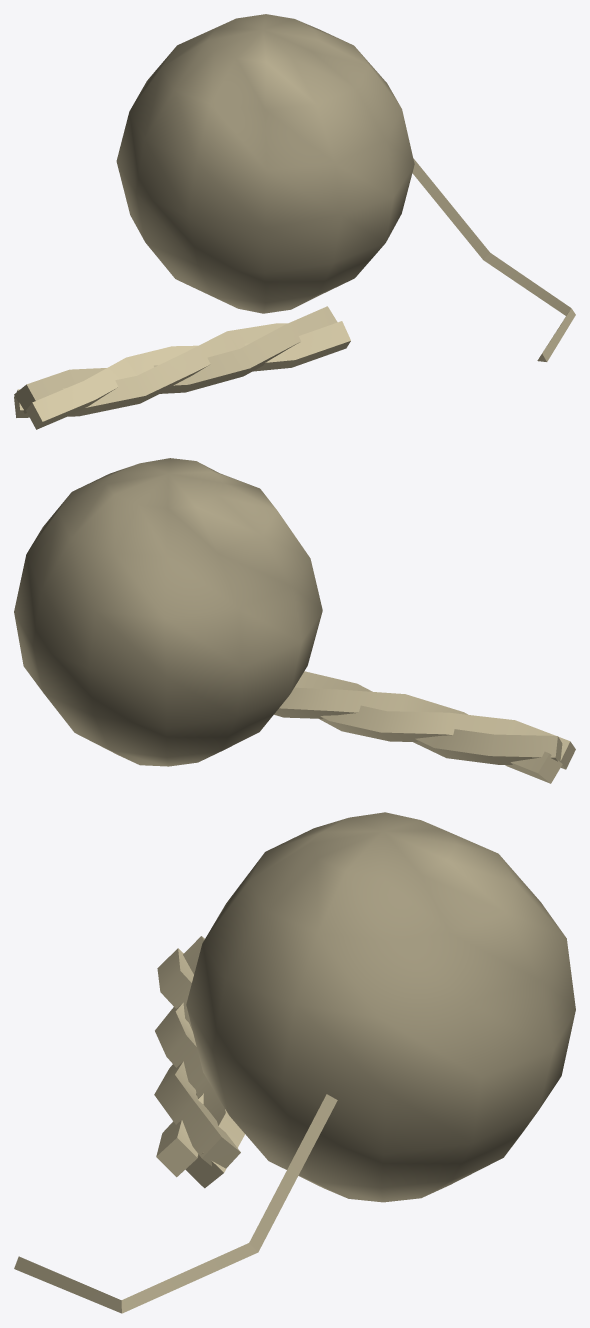
File: ph_item_yarn.glb
3 renders of one model, top to bottom at view 1: azimuth 30°, elevation 25°; view 2: azimuth 150°, elevation 25°; view 3: azimuth 270°, elevation 25°, orthographic. The views are drawn at different scales.
Visible parts, largest first — view 1: ph_item_yarn; view 2: ph_item_yarn; view 3: ph_item_yarn.
Boxes of the visible parts, left/top/right/bottom form: ph_item_yarn: left=14, top=14, right=575, bottom=429; ph_item_yarn: left=14, top=458, right=575, bottom=783; ph_item_yarn: left=14, top=812, right=575, bottom=1313.
Size of the model in its own units: 0.3052 by 0.1513 by 0.216.
